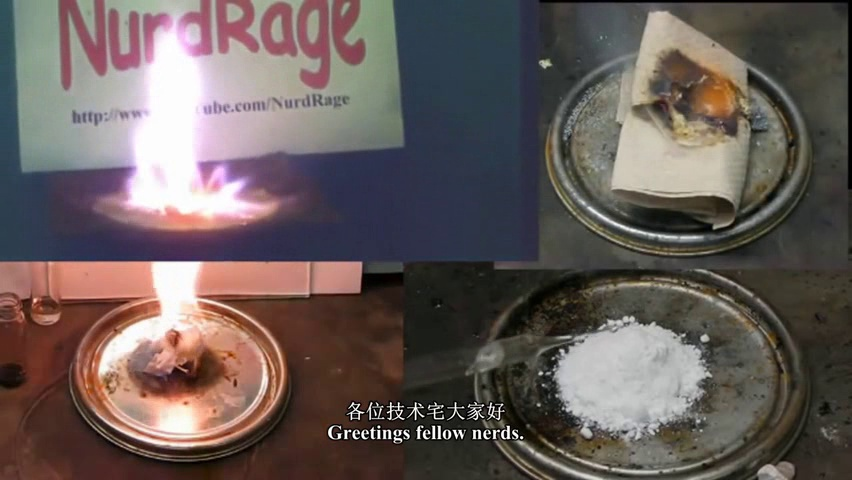fire: (113, 21, 242, 223), (140, 246, 221, 361), (683, 47, 746, 132)
